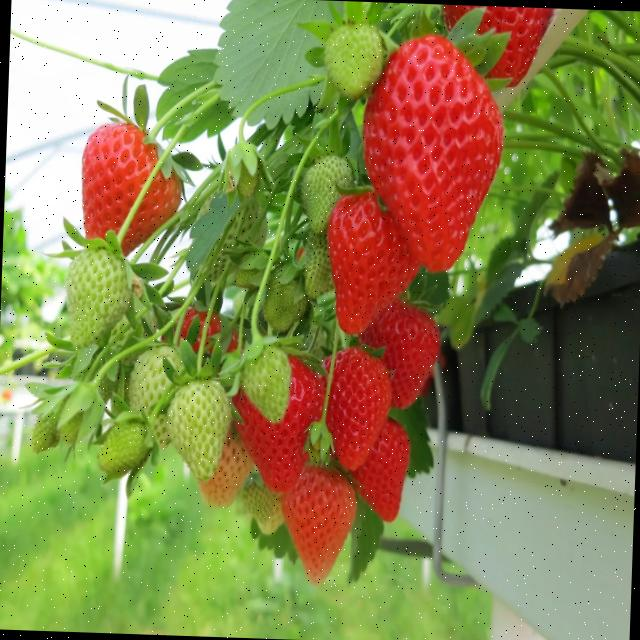Ripe Strawberry: (356, 34, 506, 274), (78, 120, 184, 258), (325, 193, 420, 338), (230, 353, 323, 495), (439, 4, 554, 87), (360, 302, 440, 408), (324, 348, 392, 469), (352, 421, 410, 522), (178, 306, 240, 356)
